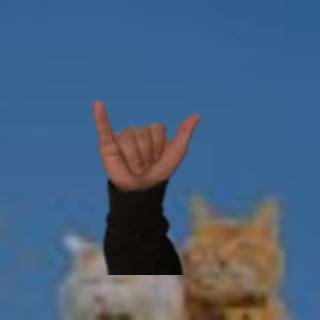HAVE: (84, 93, 210, 192)
